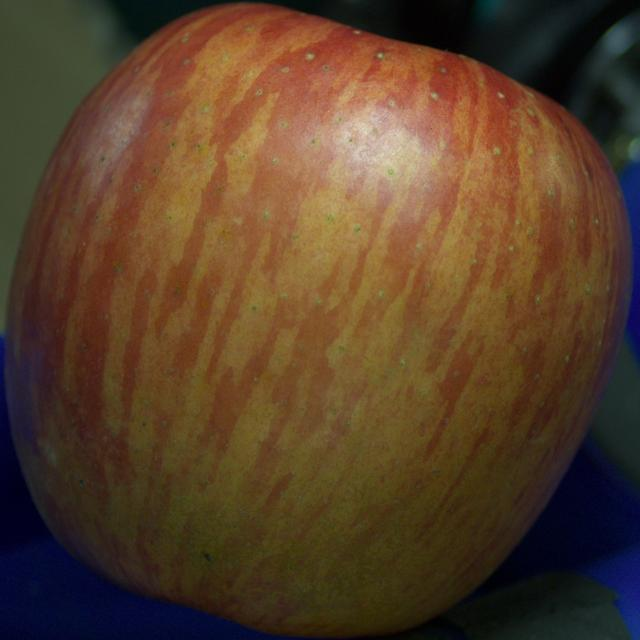apple: (4, 4, 632, 637)
